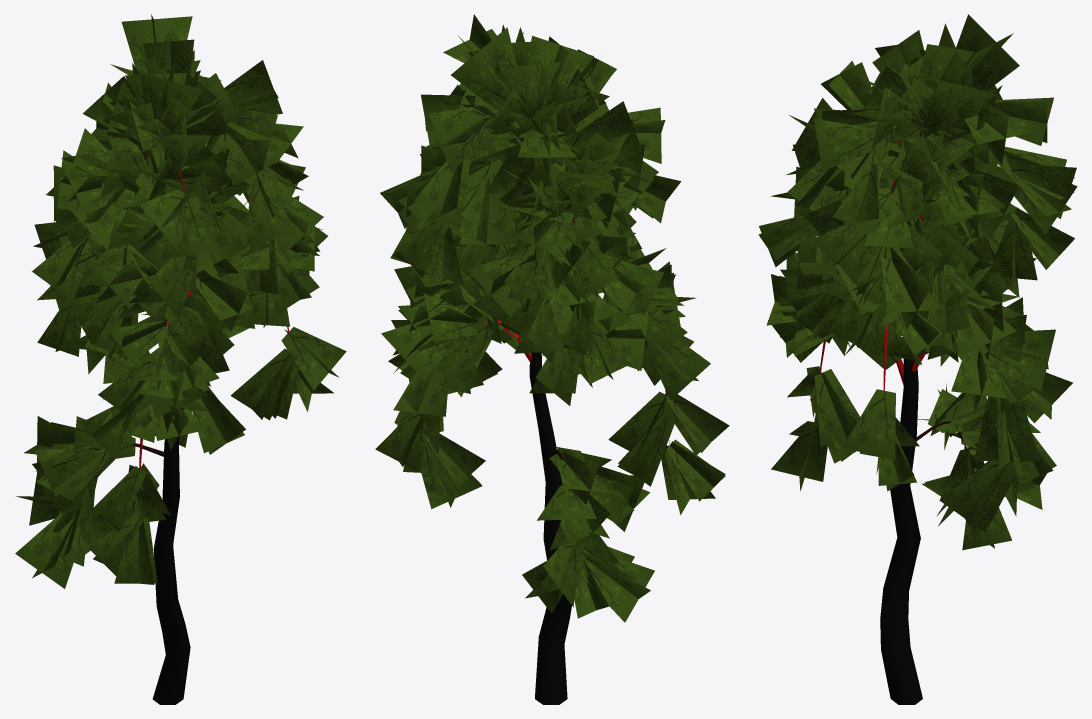
Rendered from birch6 lod0.FBX.
3 views of the same model, side by side, from view 1: azimuth 30°, elevation 25°; view 2: azimuth 150°, elevation 25°; view 3: azimuth 270°, elevation 25° (orthographic). The views are drawn at different scales.
Visible parts, largest first — view 1: birch6; view 2: birch6; view 3: birch6.
Boxes of the visible parts, x1,y1,x2,y2 form: birch6: (15,14,346,704); birch6: (375,14,729,704); birch6: (758,14,1077,704).
Bounding box in the file's own units: 57711 × 127053 × 53179.
